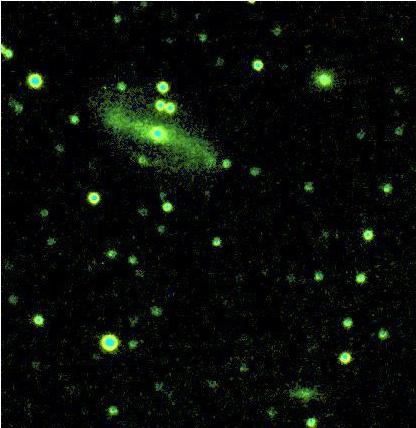star: (386, 25, 416, 55)
